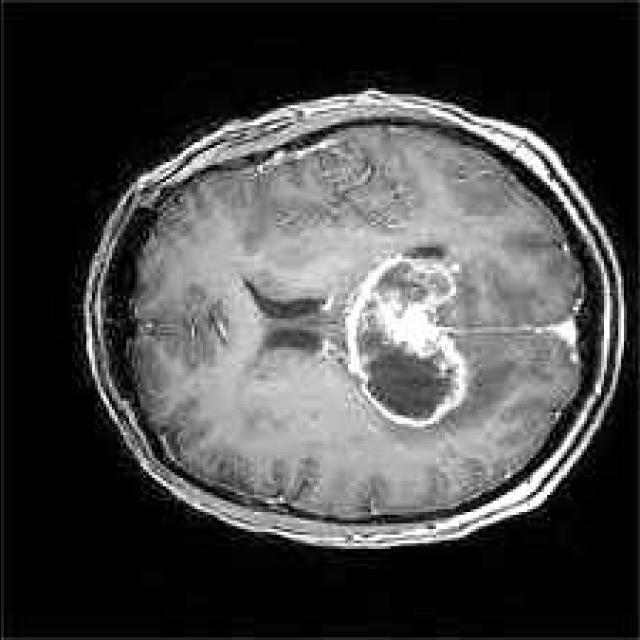tumor: (333, 247, 469, 430)
